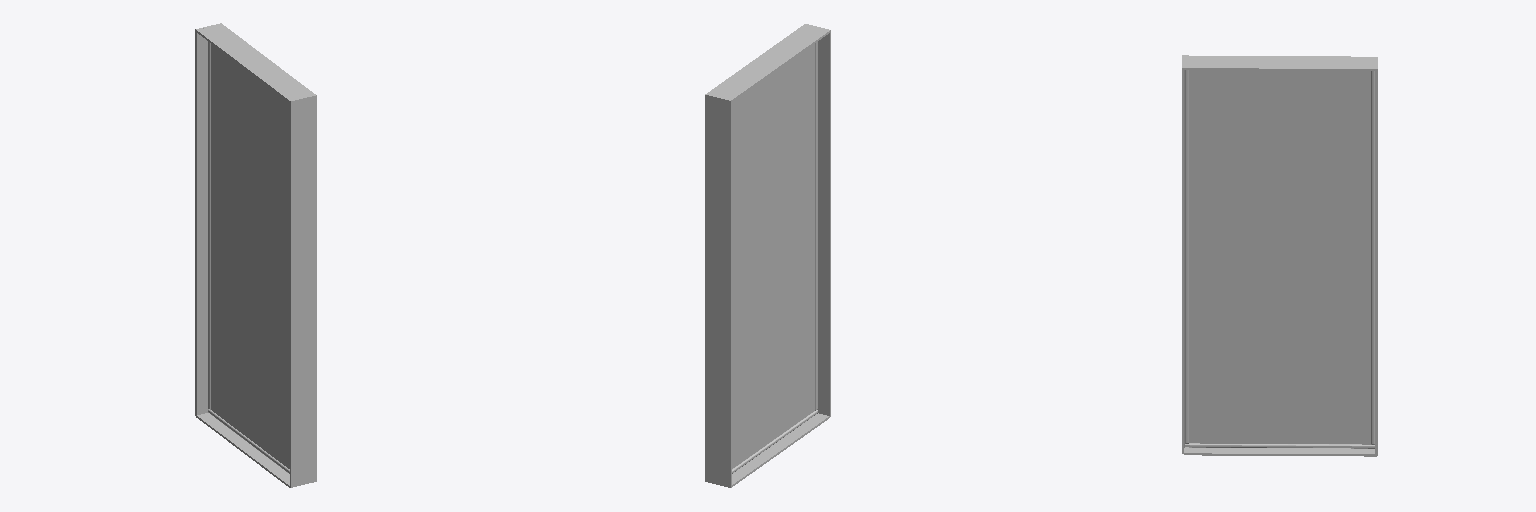
File: Ventana1.obj
The picture shows the model from 3 angles: view 1: azimuth 30°, elevation 25°; view 2: azimuth 150°, elevation 25°; view 3: azimuth 270°, elevation 25°; orthographic projection.
Parts seen in each view (by area): view 1: polySurface73; view 2: polySurface73; view 3: polySurface73.
Boxes of the visible parts, box(x1,y1,x2,y2) form: polySurface73: box(195, 23, 316, 487); polySurface73: box(705, 24, 830, 487); polySurface73: box(1182, 55, 1377, 456).
Size of the model in its own units: 0.148 by 1.94 by 0.8892.